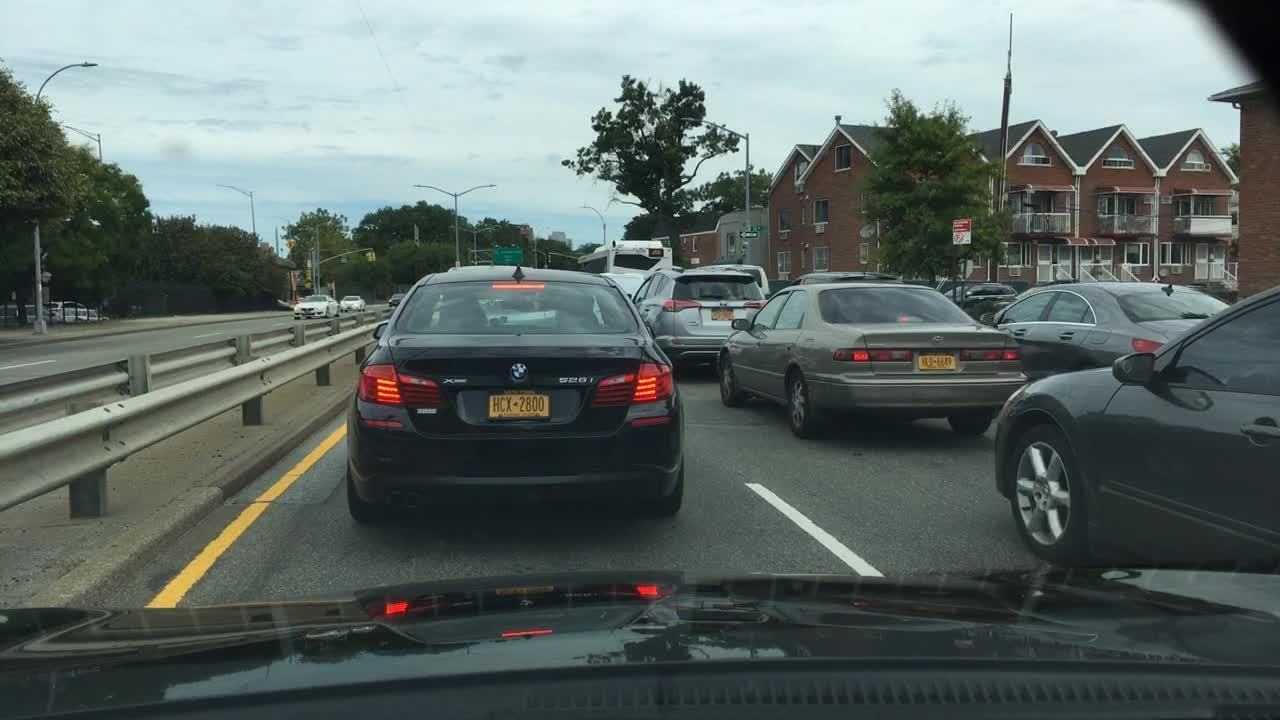Toyota: (930, 335, 950, 349)
bmw: (507, 358, 530, 382)
